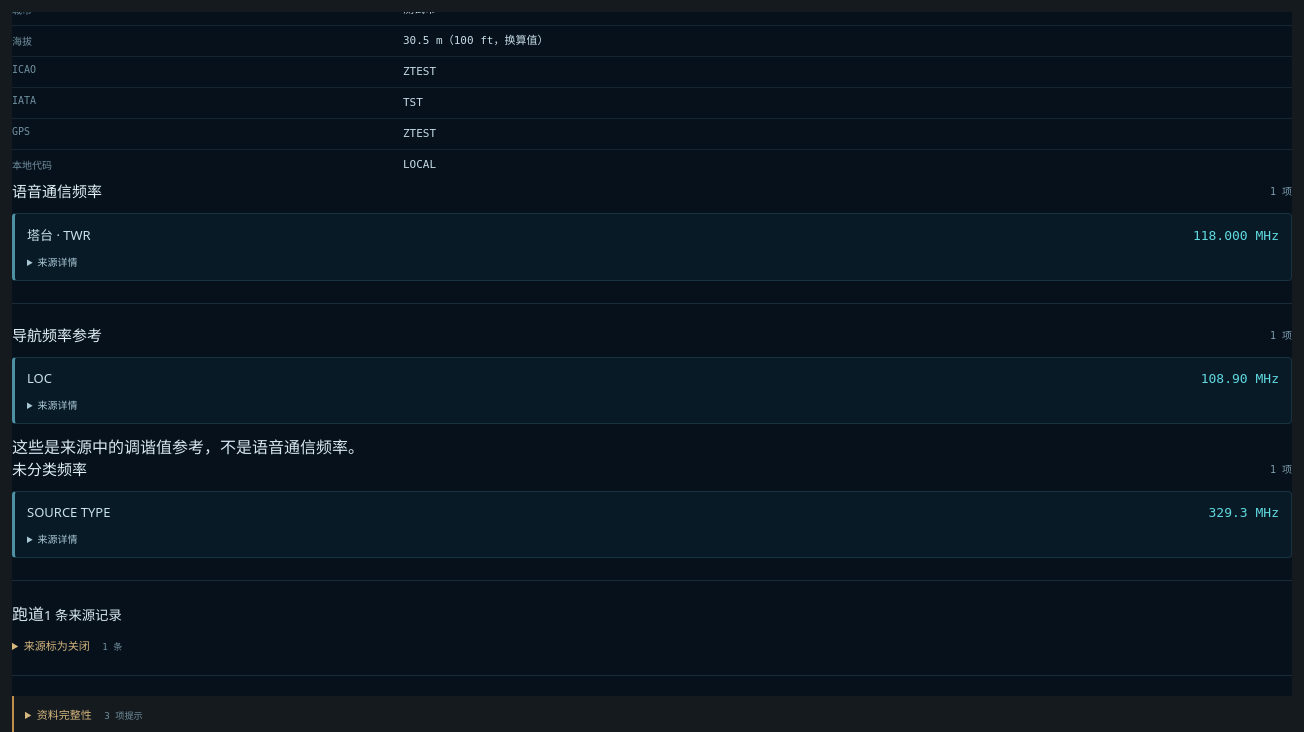
Test case: public airport details › folds source-closed runways and states missing geometry and unknown lights
The width and height of the screenshot is (1304, 732).
(page scrolled)
Check: the element "跑道" shows "来源标为关闭", box top-left (24, 640), bottom-right (96, 653)
Check: the text "起点 08R · 终点 26L" is not shown
Click the heading "来源标为关闭 1 条": (73, 646) top-left (24, 640), bottom-right (122, 653)
(page scrolled)
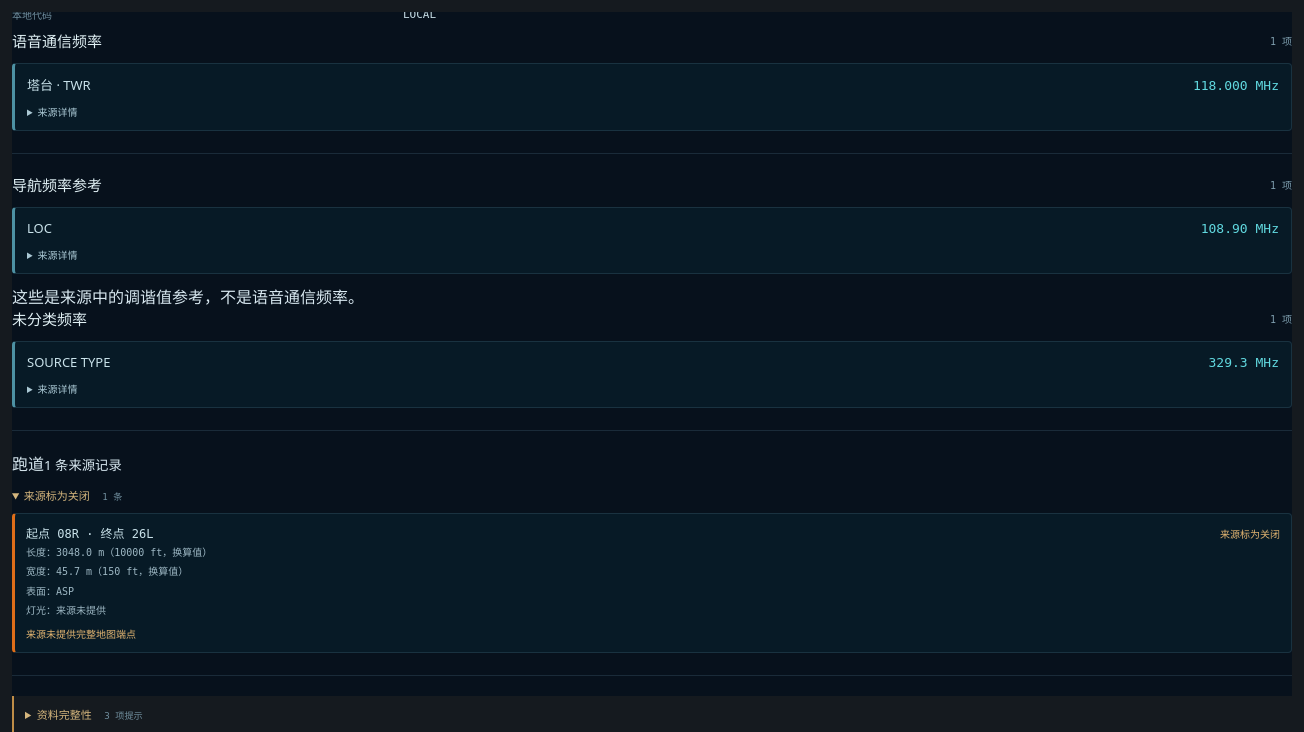
Check: the text "起点 08R · 终点 26L" is shown, box top-left (26, 524), bottom-right (154, 541)
Check: the text "灯光：来源未提供" is shown, box top-left (26, 605), bottom-right (106, 616)
Check: the text "来源未提供完整地图端点" is shown, box top-left (26, 629), bottom-right (136, 640)
